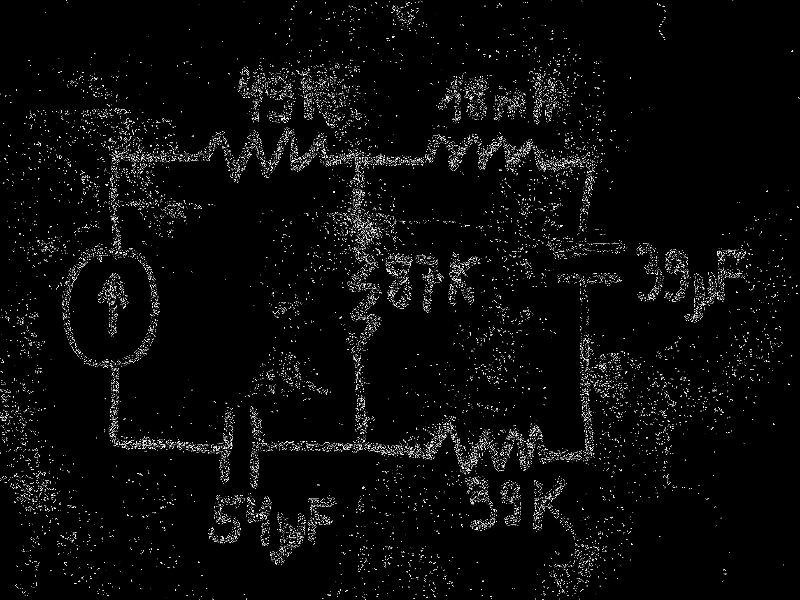1: (434, 77, 464, 124)
3: (462, 475, 498, 536), (633, 239, 665, 306)
4: (236, 64, 265, 125), (245, 492, 273, 549)
5: (208, 490, 246, 545)
7: (413, 253, 445, 313)
8: (382, 251, 415, 310), (463, 78, 489, 123)
9: (661, 246, 691, 305), (265, 71, 294, 125), (497, 480, 526, 529)
F: (715, 245, 746, 306), (306, 497, 335, 547)
H: (530, 73, 555, 126)
k: (299, 68, 343, 130), (530, 477, 573, 536), (448, 251, 479, 310)
m: (492, 91, 526, 123)
u: (272, 512, 306, 566), (691, 273, 717, 324)
